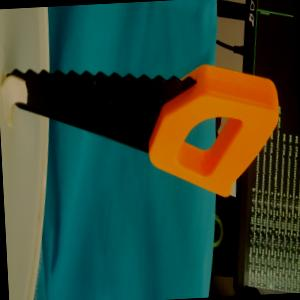serrote: (4, 52, 283, 207)
